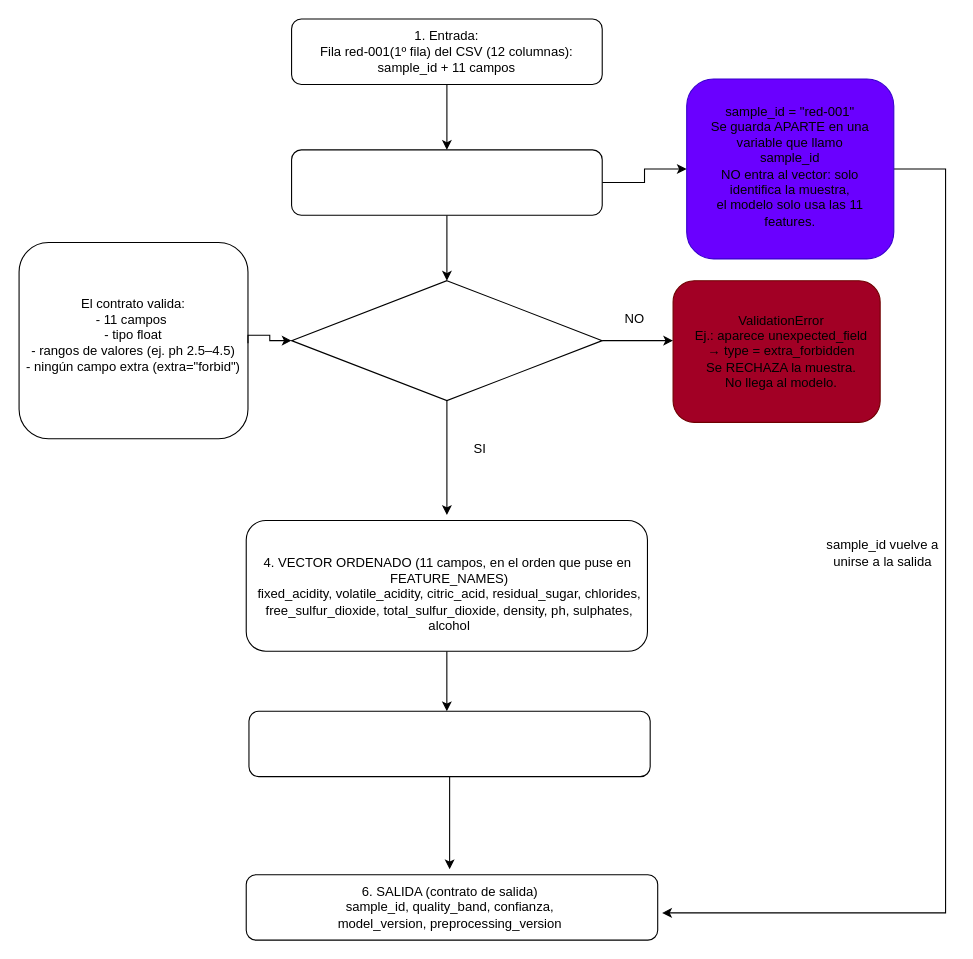
Image size: 973x959. Some labels were removed from this diagram. Here are the shapes that lost their labels. From the top down, the centre of each, then its label:
point (446, 182): 2. Separar sample_id del resto
point (446, 340): 3. ¿Cumple el contrato de entrada?
point (449, 743): 5. Modelo que nos pasaron(.joblib),le pasamos para el .predict el vector
